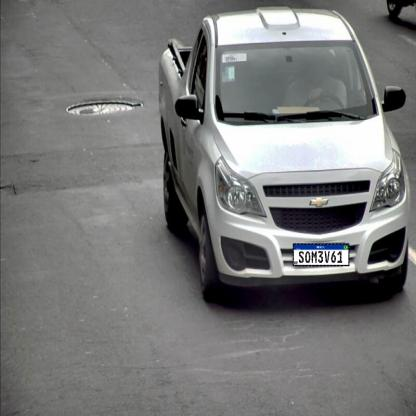PlacaM: (293, 244, 349, 266)
